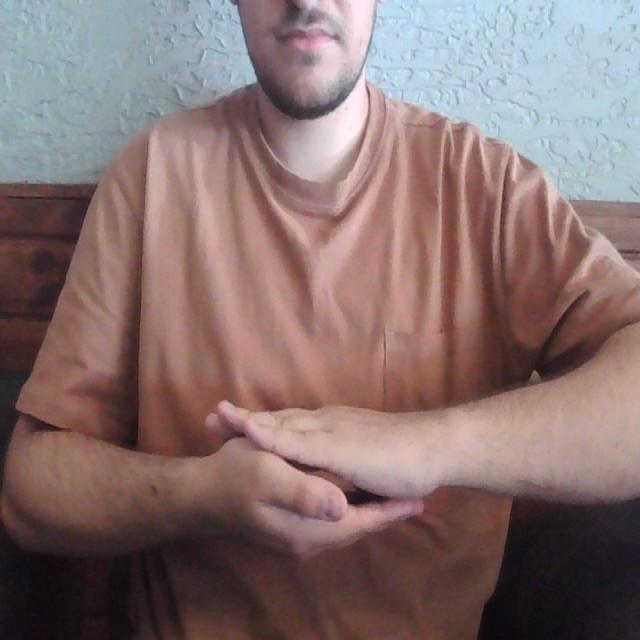Arkadas: (130, 384, 519, 570)
